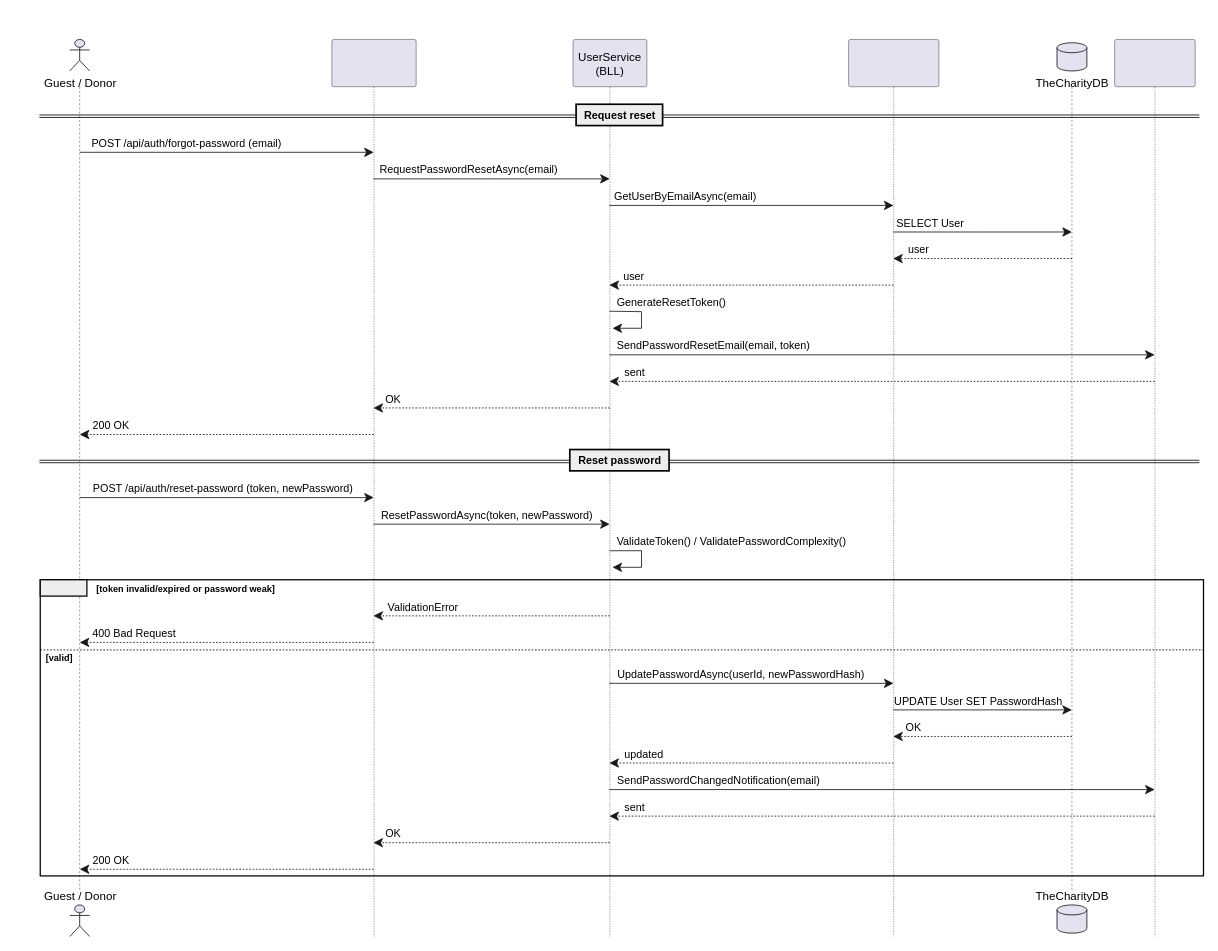
Some shapes in this 1218 by 951 pixel diagram are drawn without their labels. Each missing label, with the box of its shape:
alt: (39, 579, 87, 596)
AuthController (PL): (331, 39, 416, 936)
EmailService: (1114, 39, 1195, 936)
UserRepository (DAL): (848, 39, 939, 936)
